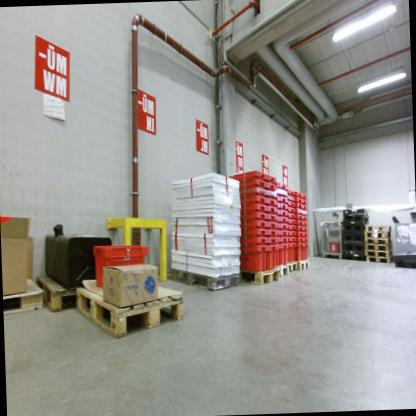pallet: (73, 285, 182, 341), (169, 264, 241, 299), (36, 276, 91, 318), (3, 271, 47, 315), (236, 263, 283, 287), (364, 242, 393, 253), (366, 254, 394, 265), (293, 259, 312, 275), (364, 228, 391, 239), (274, 264, 290, 281), (364, 235, 392, 244), (365, 249, 393, 257), (365, 225, 390, 233), (286, 260, 297, 274)
small_load_carrier: (93, 242, 156, 295), (236, 242, 269, 274), (226, 169, 266, 183), (235, 178, 267, 190), (239, 193, 268, 206), (292, 243, 310, 263), (238, 228, 270, 239), (239, 202, 268, 214), (237, 186, 268, 197), (268, 243, 280, 271), (239, 236, 269, 247), (241, 219, 269, 229), (239, 211, 269, 220), (280, 241, 290, 268), (327, 236, 341, 255), (287, 243, 297, 265), (265, 173, 279, 185), (264, 188, 277, 200), (265, 183, 279, 194), (266, 198, 281, 208), (268, 228, 281, 239), (294, 201, 308, 211), (295, 211, 307, 222), (268, 236, 281, 246), (279, 200, 289, 213), (294, 195, 307, 205), (278, 180, 290, 190), (279, 186, 289, 198), (267, 203, 280, 212), (268, 214, 281, 223), (294, 206, 307, 215), (296, 224, 309, 233), (279, 193, 289, 204), (296, 190, 307, 200), (269, 221, 281, 230), (297, 235, 309, 244), (278, 208, 289, 217), (279, 215, 289, 224), (280, 221, 289, 231), (280, 228, 289, 238), (287, 211, 297, 220), (287, 187, 296, 196), (287, 206, 297, 214), (286, 200, 297, 207), (296, 219, 307, 226), (288, 237, 297, 245), (287, 195, 296, 203), (281, 236, 289, 244), (289, 230, 297, 237), (288, 218, 296, 225), (289, 225, 296, 231), (298, 232, 308, 236)
stillage: (318, 218, 347, 261)
